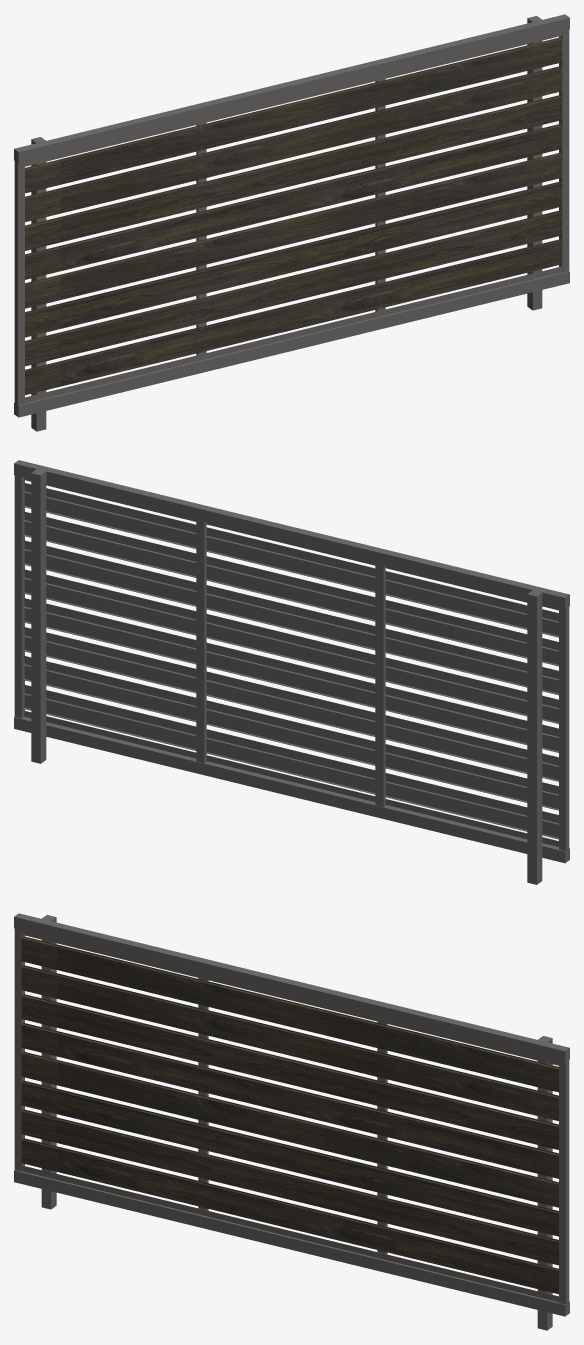
File: EAF-sensia-r-yoko_w1998_h1000_B_blackebony.fbx
3 renders of one model, top to bottom at view 1: azimuth 30°, elevation 25°; view 2: azimuth 150°, elevation 25°; view 3: azimuth 330°, elevation 25°, orthographic.
Parts seen in each view (by area): view 1: EAF-sensia-r-yoko_w1998_h1000_B-darkpine; view 2: EAF-sensia-r-yoko_w1998_h1000_B-darkpine; view 3: EAF-sensia-r-yoko_w1998_h1000_B-darkpine.
Part boxes in pixels (box(x1,y1,x2,y2)): EAF-sensia-r-yoko_w1998_h1000_B-darkpine: box(14, 14, 569, 431); EAF-sensia-r-yoko_w1998_h1000_B-darkpine: box(14, 460, 569, 884); EAF-sensia-r-yoko_w1998_h1000_B-darkpine: box(14, 913, 569, 1330).
Size of the model in its own units: 200 by 100 by 6.5.
2 materials, 1 textured.
